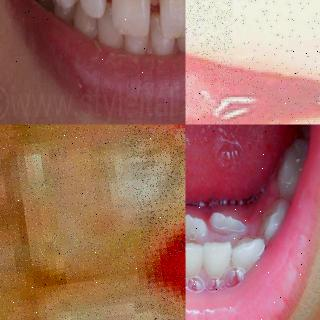Gum Swelling: (185, 1, 320, 124)
calculus: (21, 124, 185, 258), (58, 276, 186, 320), (0, 267, 53, 320), (0, 187, 38, 254)
maligned: (210, 206, 244, 244), (186, 207, 203, 247)
